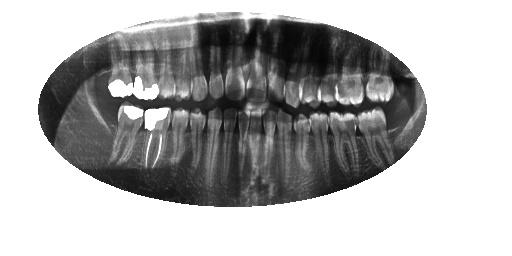i10decay: (223, 106, 239, 183)
i11decay: (207, 107, 223, 180)
i12healthy: (188, 105, 207, 173)
i13healthy: (169, 105, 190, 172)
i14healthy: (144, 105, 172, 170)
i15healthy: (107, 103, 144, 163)
i16loss: (98, 98, 117, 122)
i1loss: (387, 106, 410, 131)
i2healthy: (357, 107, 397, 178)
i3healthy: (328, 109, 360, 179)
i4healthy: (310, 111, 330, 180)
i5decay: (294, 113, 313, 179)
i6chipped: (277, 108, 294, 186)
i7decay: (262, 109, 278, 188)
i8decay: (251, 110, 262, 188)
i9decay: (236, 109, 252, 186)
u10healthy: (207, 31, 225, 99)
u11healthy: (190, 35, 208, 102)
u12healthy: (174, 39, 192, 102)
u13healthy: (157, 36, 175, 99)
u14healthy: (132, 36, 159, 102)
u15healthy: (106, 39, 135, 98)
u16healthy: (85, 49, 108, 93)
u1loss: (395, 74, 414, 97)
u2healthy: (366, 43, 395, 102)
u3decay: (335, 36, 366, 106)
u4decay: (316, 39, 336, 104)
u5decay: (298, 39, 321, 107)
u6healthy: (283, 33, 302, 106)
u7decay: (266, 26, 287, 102)
u8decay: (246, 23, 269, 103)
u9decay: (224, 28, 246, 102)
